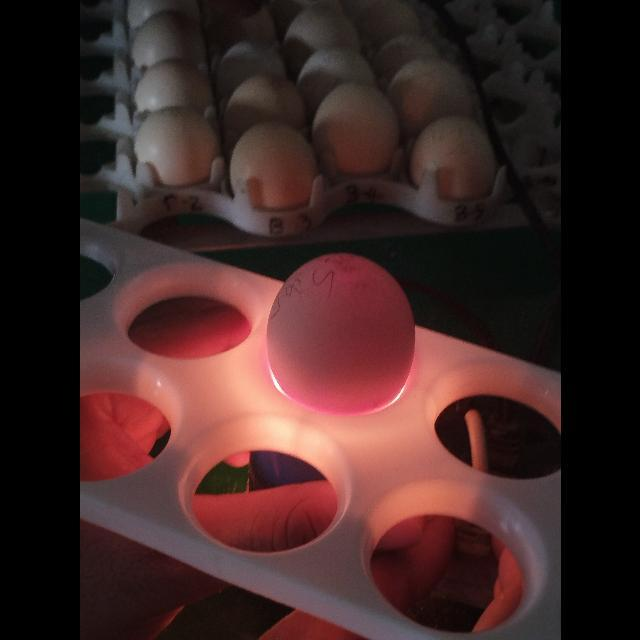Fertile: (264, 249, 418, 419)
